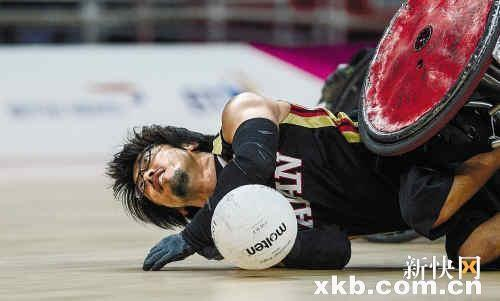fall: (109, 75, 489, 281)
